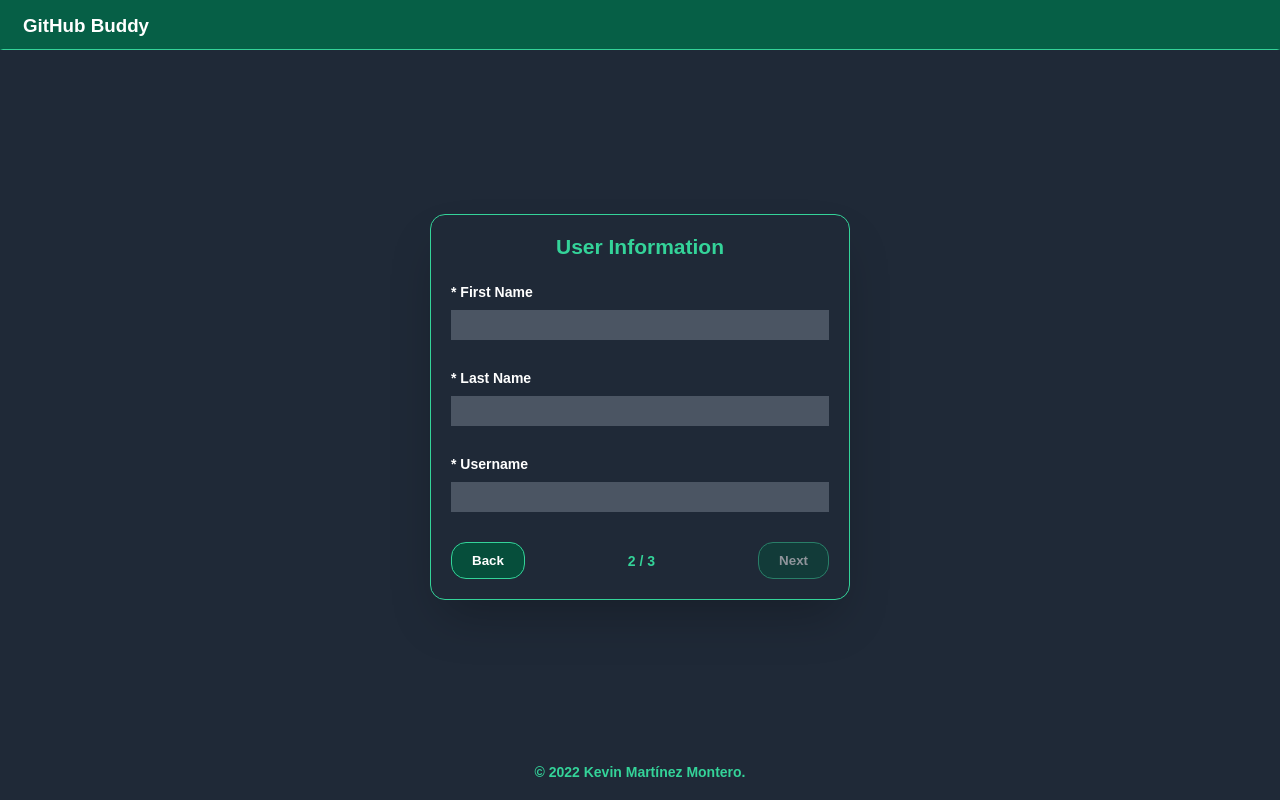
Scenario: Form One › should show error for required username
This screenshot has width=1280, height=800.
Focus the field labelled "* Username" at [640, 497], box [451,482,829,512]
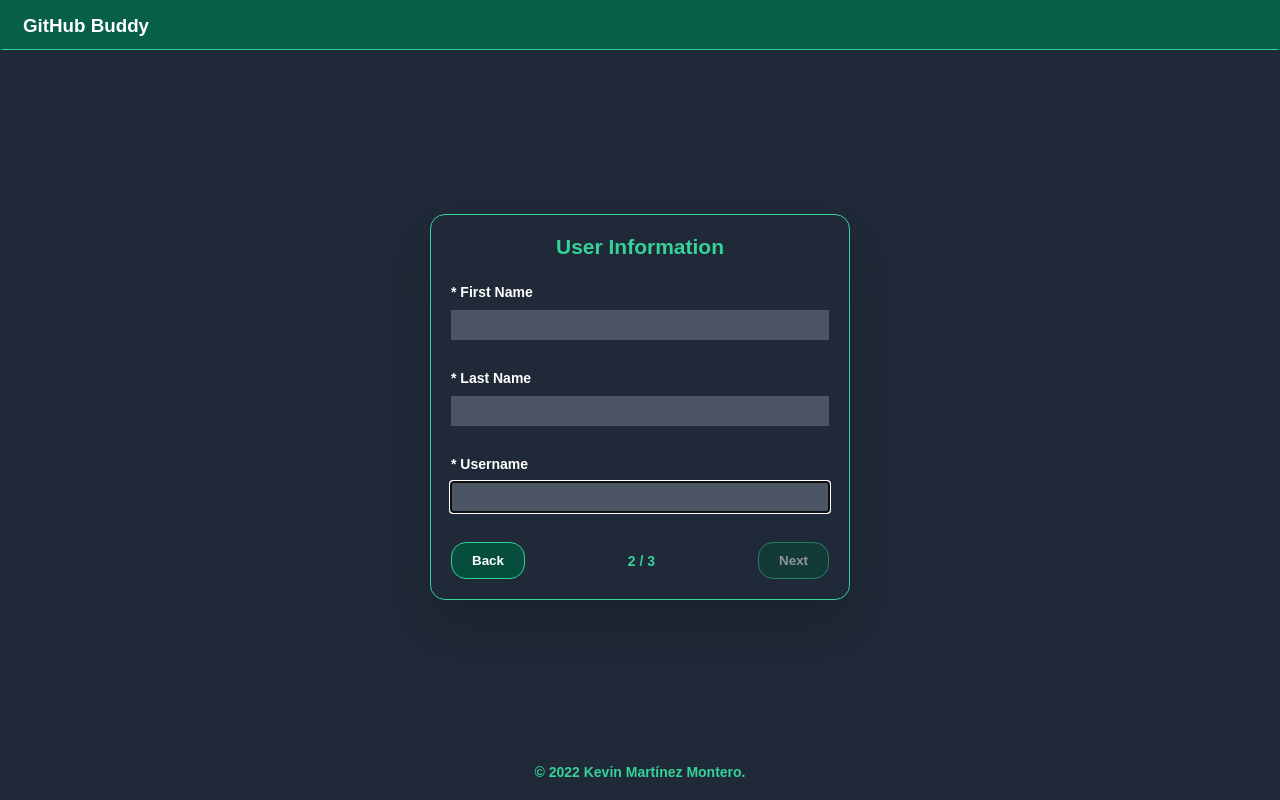
Focus the field labelled "* First Name" at [640, 325], box [451,310,829,340]
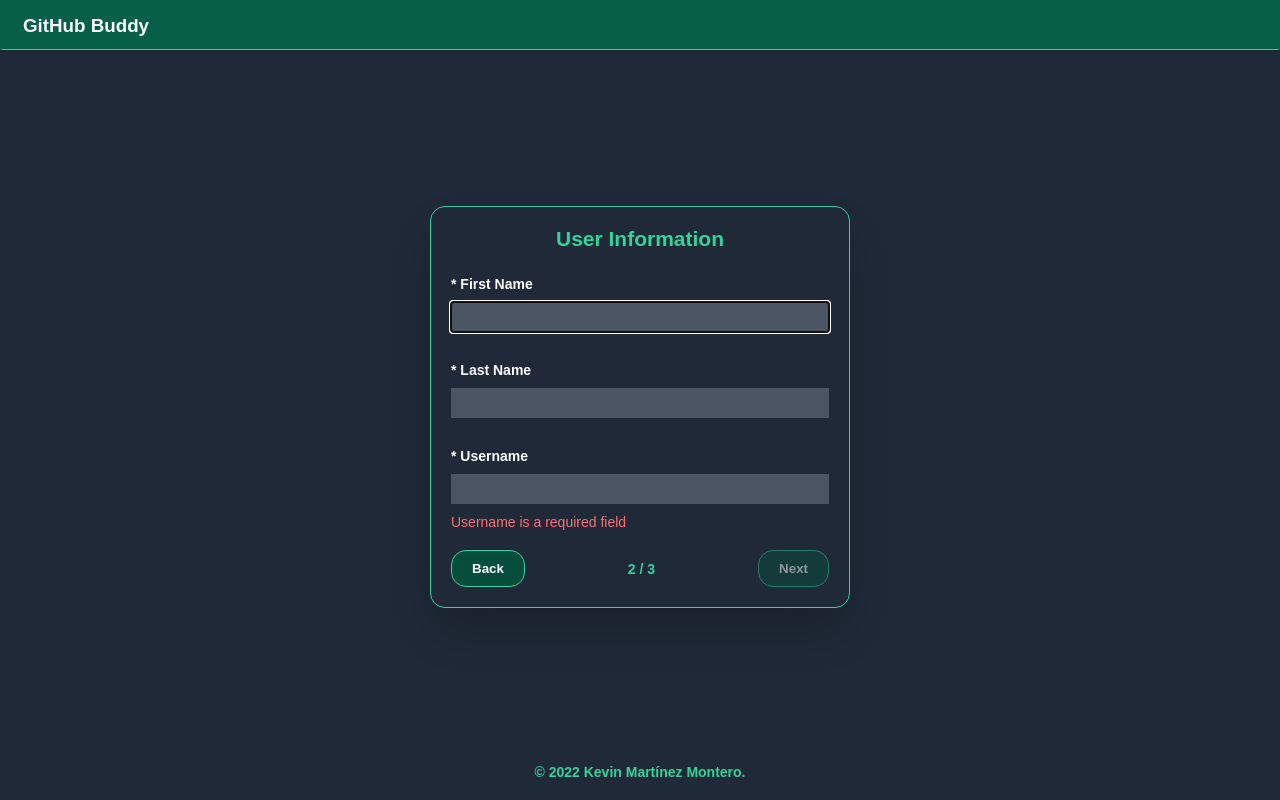
Check: the message "Username is a required field" is shown, box [451,514,626,530]
